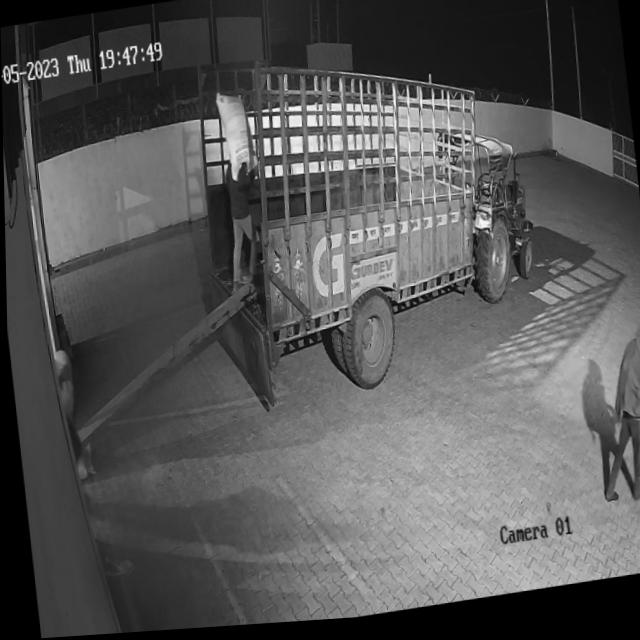sack: (213, 89, 256, 184)
